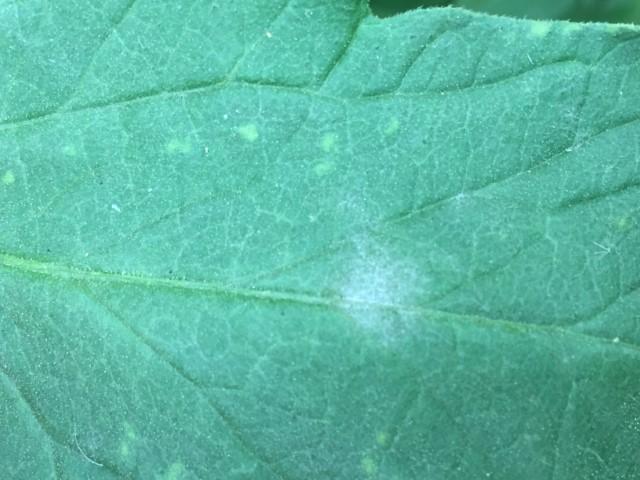oidio: (332, 232, 434, 353)
